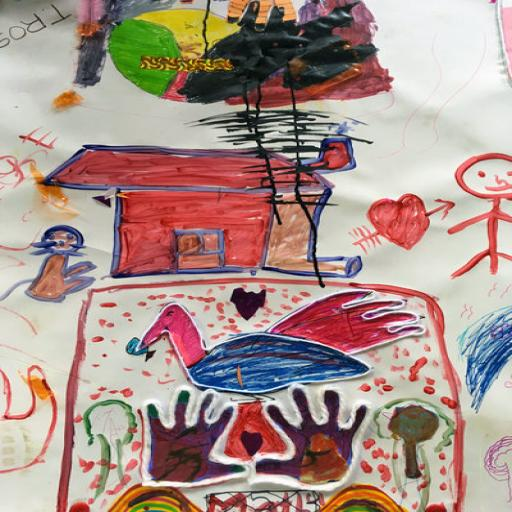person: (426, 148, 512, 294)
